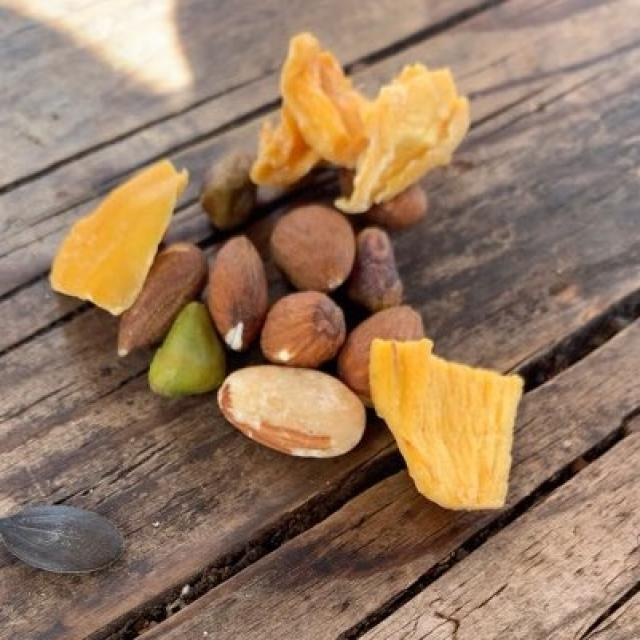mango-dried: (50, 30, 524, 510)
mixed-nuts: (1, 162, 433, 576)
